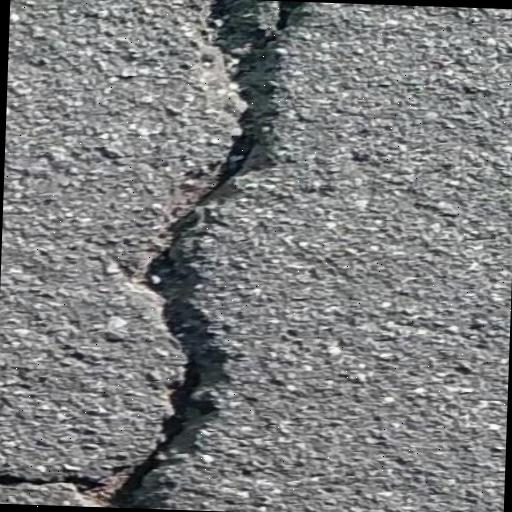spalling: (86, 0, 310, 508)
